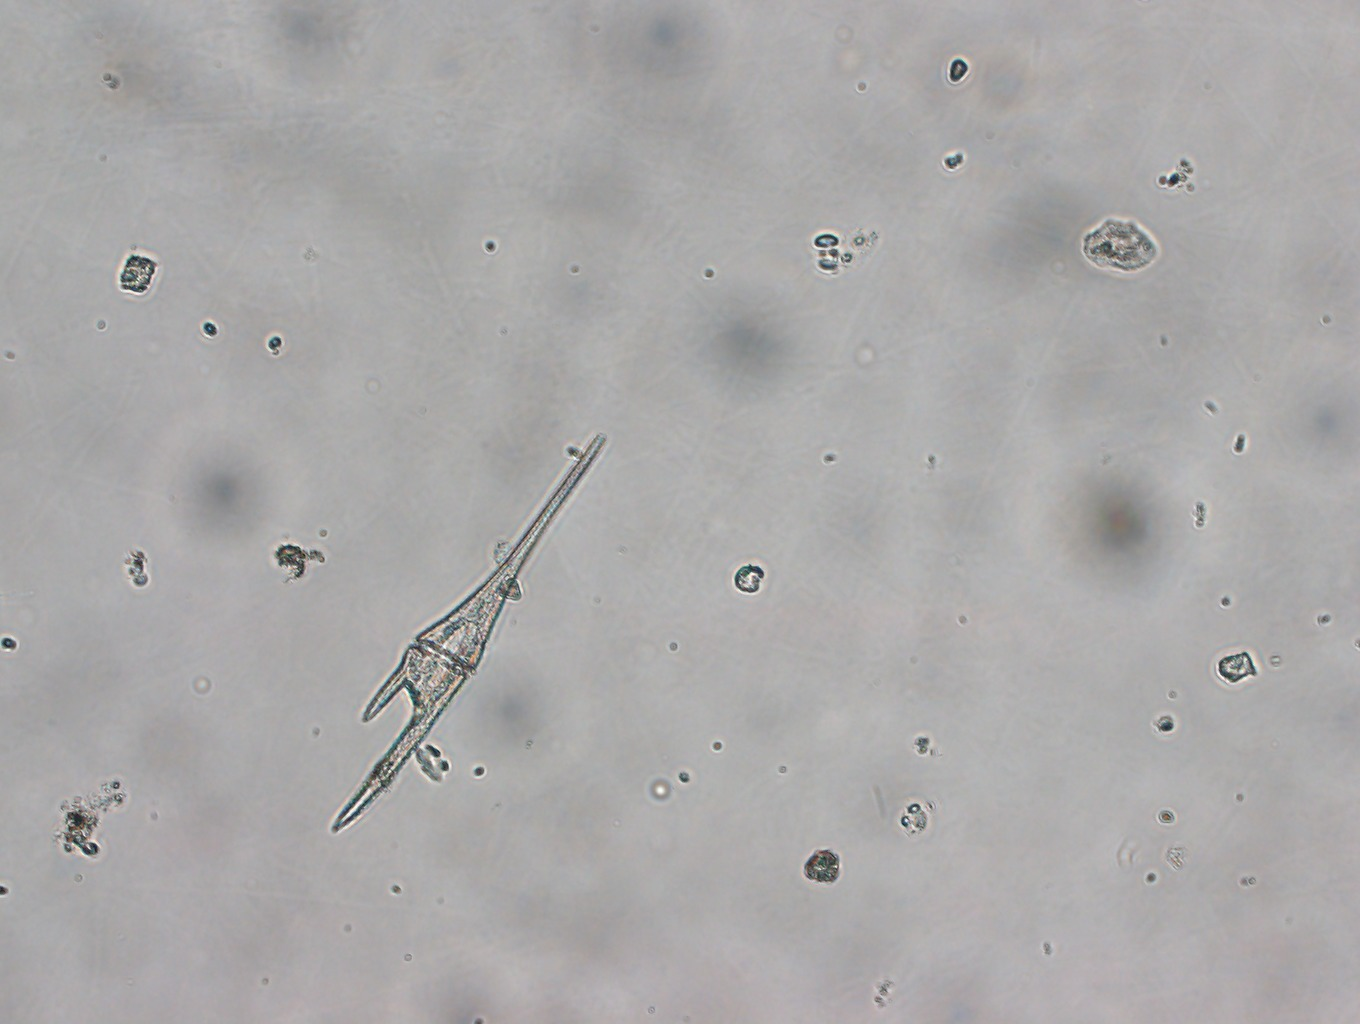ceratium furca: (327, 429, 610, 845)
